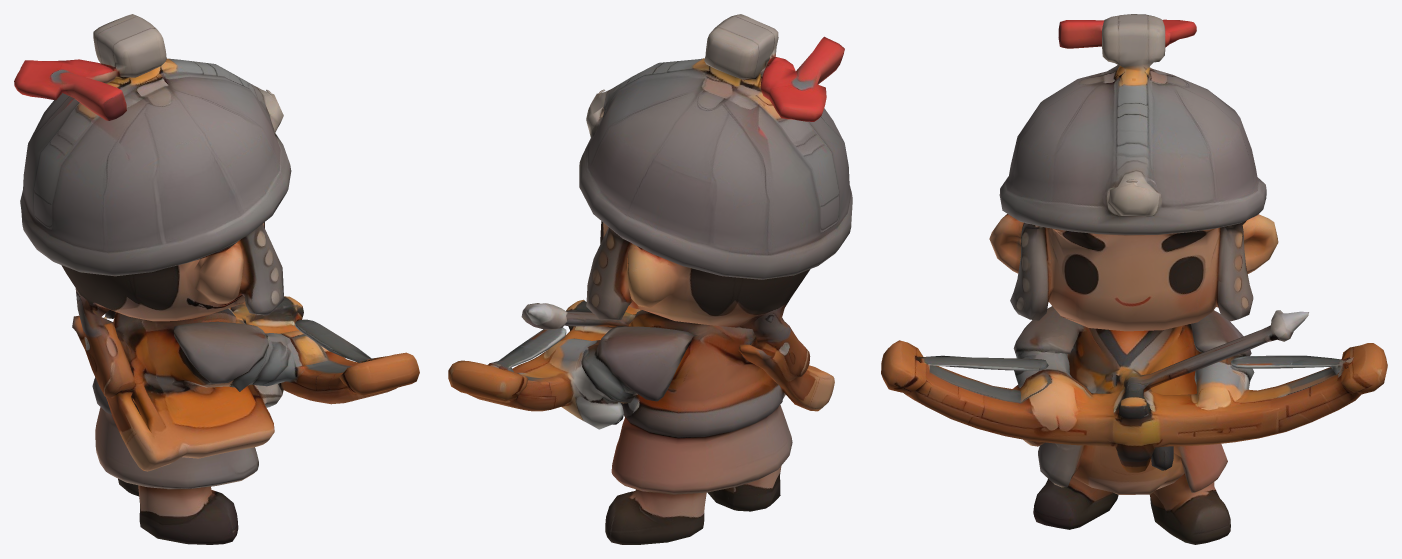
Rendered from tripo_convert_949ba7fb-fbbb-4640-b198-e2ed82c76c08.fbx.
The picture shows the model from 3 angles, left to right: view 1: azimuth 30°, elevation 25°; view 2: azimuth 150°, elevation 25°; view 3: azimuth 270°, elevation 25°; orthographic projection. The views are drawn at different scales.
Parts seen in each view (by area): view 1: tripo_node_949ba7fb; view 2: tripo_node_949ba7fb; view 3: tripo_node_949ba7fb.
Part boxes in pixels (left/top/right/bottom): tripo_node_949ba7fb: left=14, top=14, right=419, bottom=544; tripo_node_949ba7fb: left=448, top=14, right=852, bottom=544; tripo_node_949ba7fb: left=881, top=14, right=1387, bottom=544.
Bounding box in the file's own units: 0.5587 × 0.9987 × 0.9512.
1 material, 1 textured.
